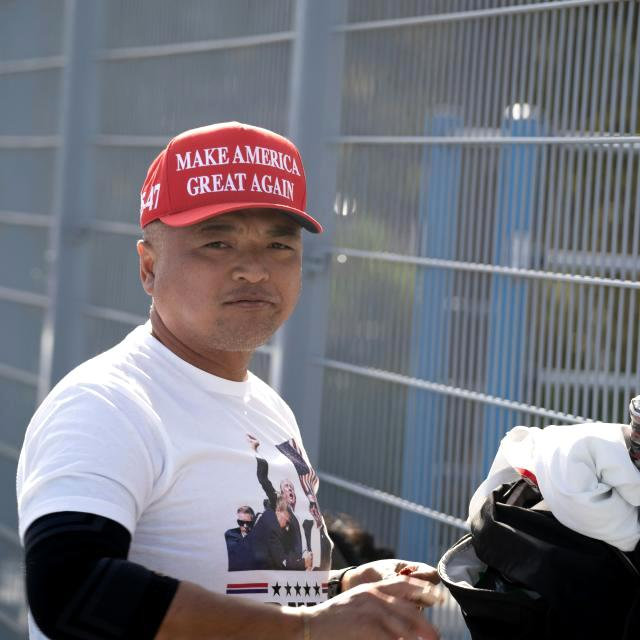no_hard_hat: (141, 122, 322, 233)
person: (14, 122, 445, 638)
